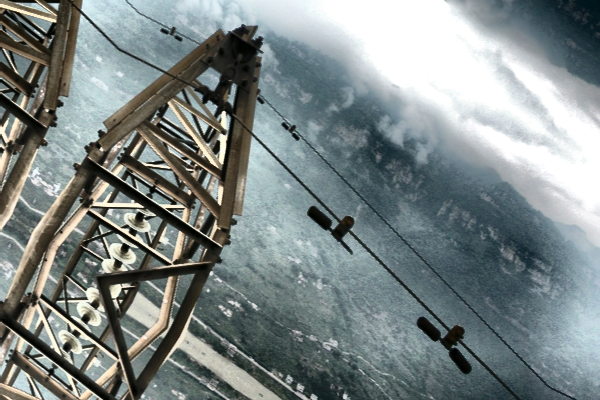damper: (414, 311, 473, 376), (158, 25, 184, 42), (280, 120, 300, 142)
damper_defect: (303, 202, 357, 257)
